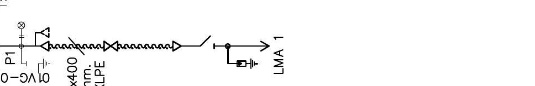22_ds_la_out: (200, 35, 270, 69)
22_gs: (25, 58, 50, 74)
22_ll: (17, 21, 25, 38)
terminator_single: (171, 40, 182, 52)
terminator_splicing_kits: (103, 40, 119, 52)
terminator_w_future: (34, 26, 50, 52)
